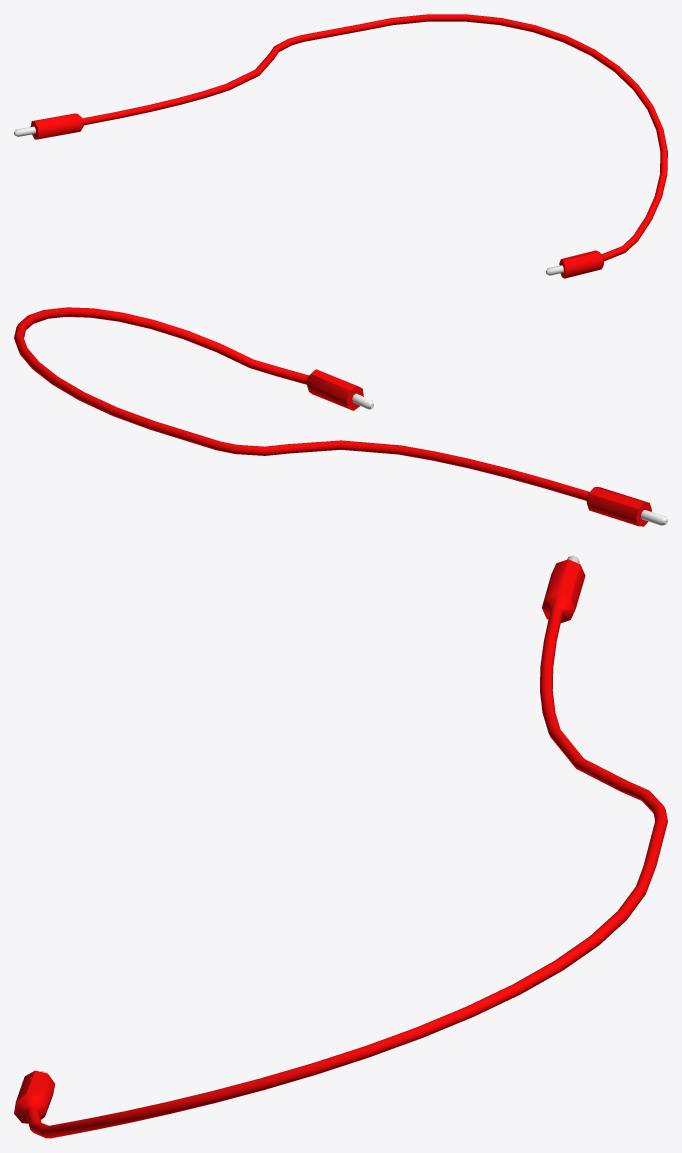
The model's file is ElectroWires06_1.FBX.
3 views of the same model, one above another, from view 1: azimuth 30°, elevation 25°; view 2: azimuth 150°, elevation 25°; view 3: azimuth 270°, elevation 25° (orthographic). The views are drawn at different scales.
Parts seen in each view (by area): view 1: Object001; view 2: Object001; view 3: Object001.
Boxes of the visible parts, <box> form: Object001: <box>14,14,667,278</box>; Object001: <box>14,307,667,526</box>; Object001: <box>14,555,667,1138</box>.
Bounding box in the file's own units: 87.14 × 20.38 × 52.53.
